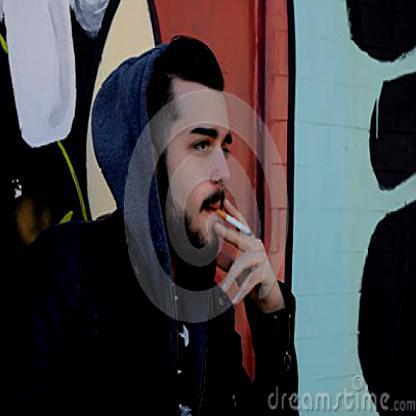cigarette: (216, 204, 252, 234)
person: (11, 37, 251, 415)
